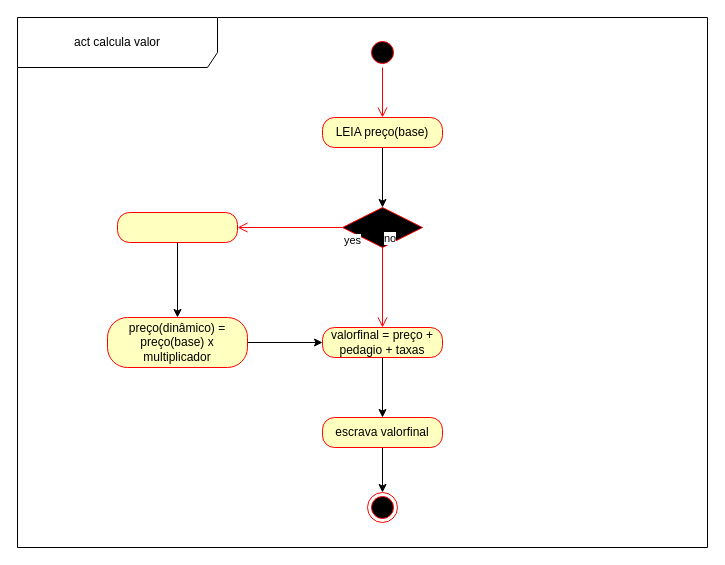
Some shapes in this 725 by 565 pixel diagram are drawn without their labels. The box of each missing label's shape, as (x1, y1, x2, y2) in pixels:
LEIA multiplicador: (116, 212, 238, 242)
Preço dinâmico: (342, 206, 422, 248)
